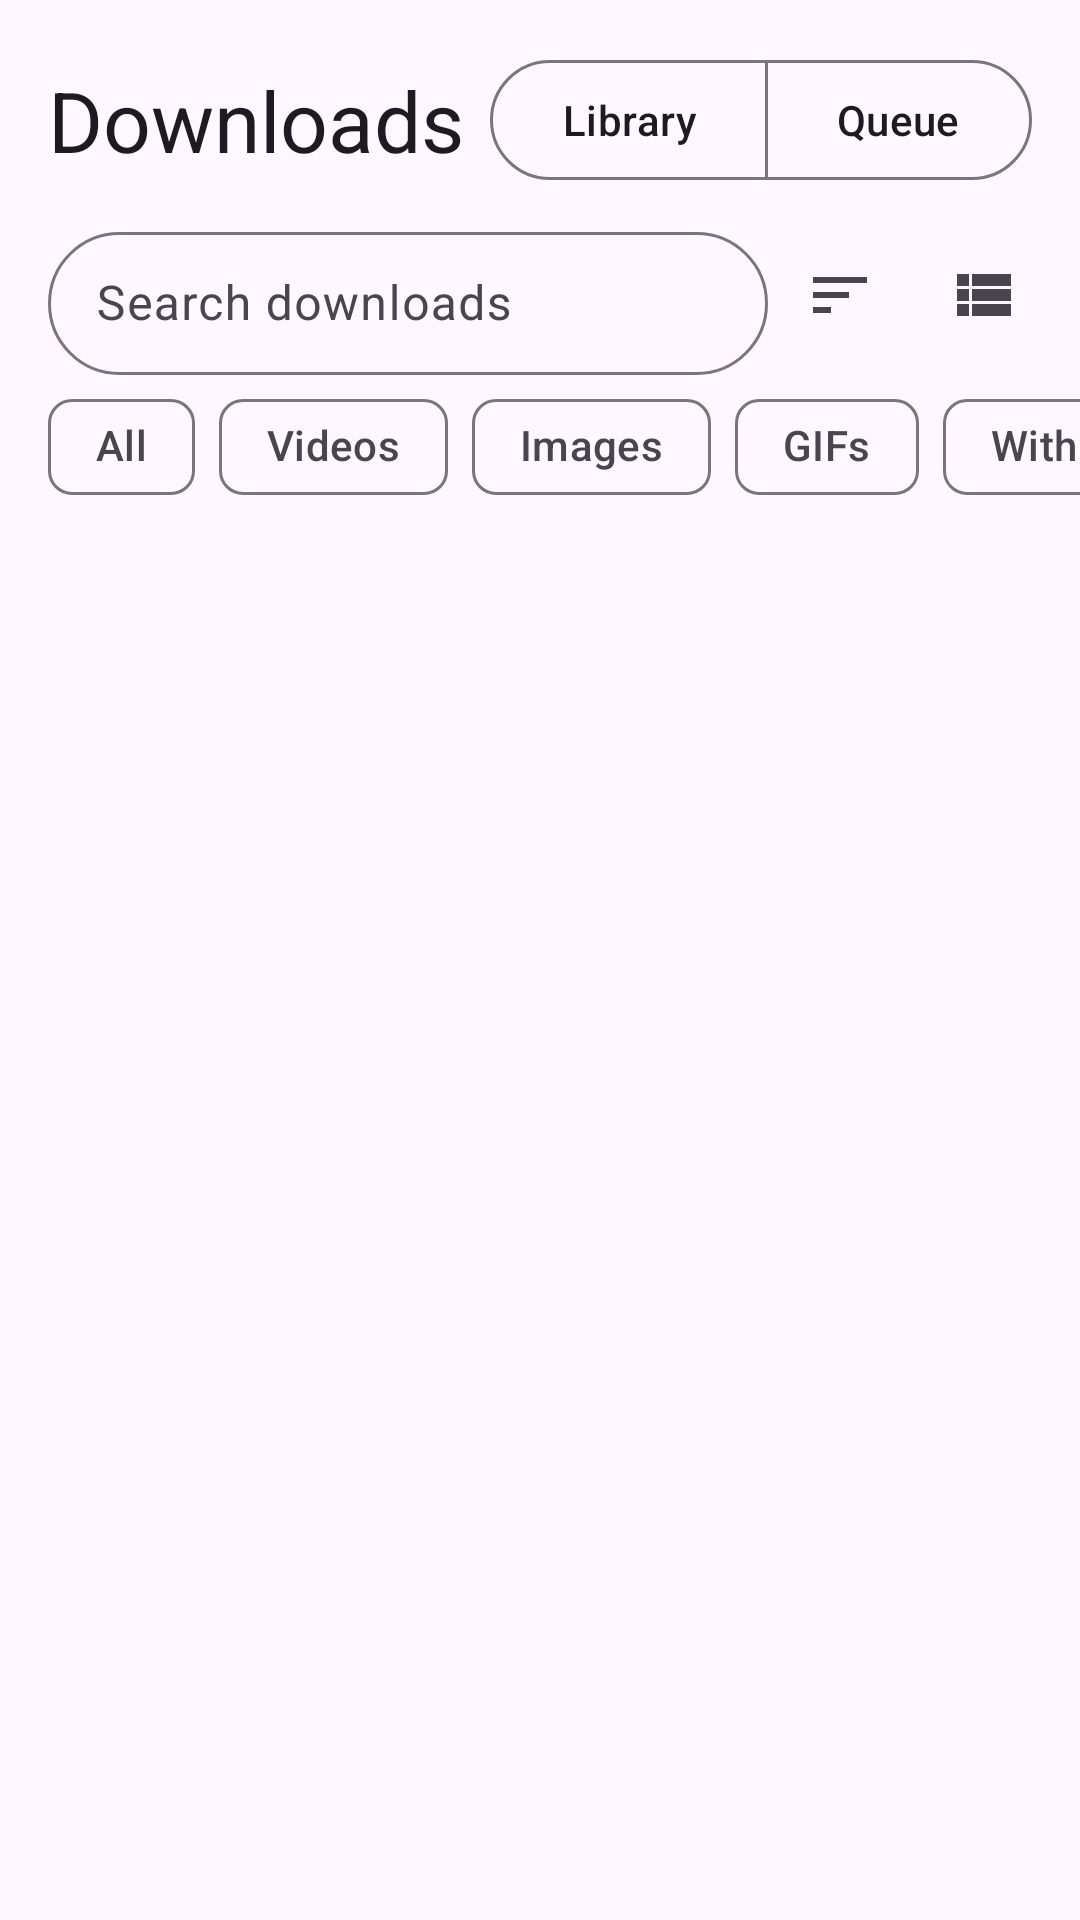

Locate icon controls on the screen. Image size 1080px x 1920px, boxes as (x1, y1, x2, y2).
Change layout: (957, 274, 1011, 316)
Sort: (813, 277, 867, 313)
